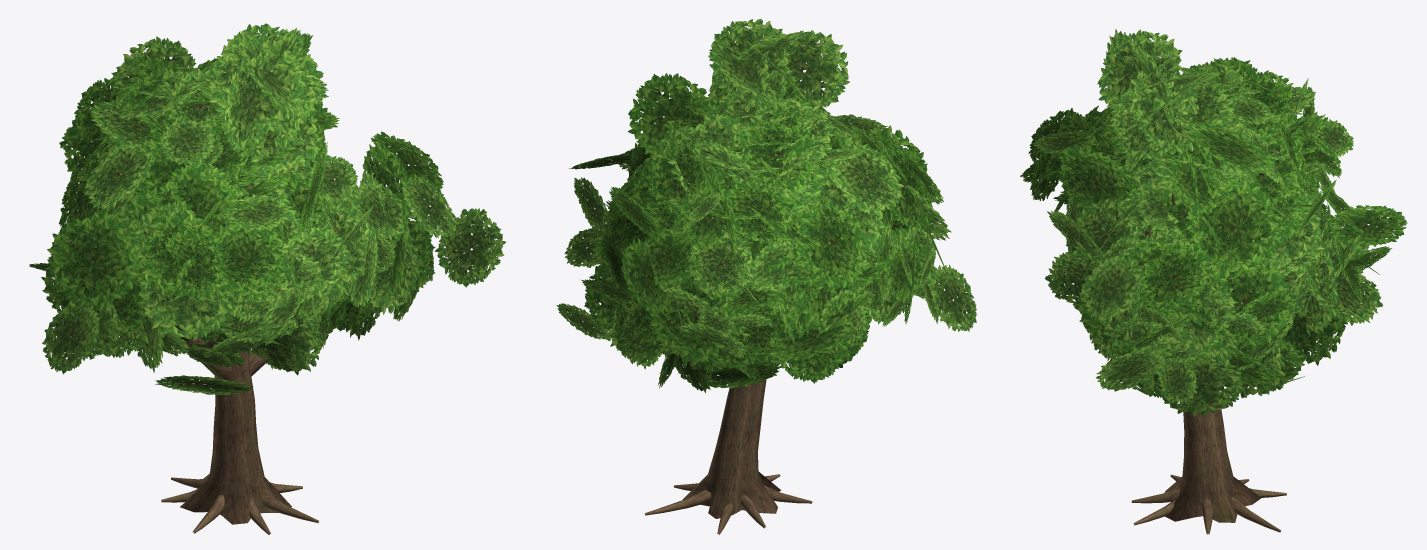
The model's file is arbol_gigante.gltf.
3 views of the same model, side by side, from view 1: azimuth 30°, elevation 25°; view 2: azimuth 150°, elevation 25°; view 3: azimuth 270°, elevation 25° (orthographic). The views are drawn at different scales.
Parts seen in each view (by area): view 1: arbol_gigante; view 2: arbol_gigante; view 3: arbol_gigante.
Part boxes in pixels (left/top/right/bottom): arbol_gigante: left=29, top=23, right=505, bottom=534; arbol_gigante: left=556, top=18, right=976, bottom=534; arbol_gigante: left=1020, top=29, right=1407, bottom=534.
Bounding box in the file's own units: 12.63 × 13.67 × 10.56.
Materials: 3 (3 with a texture image).
